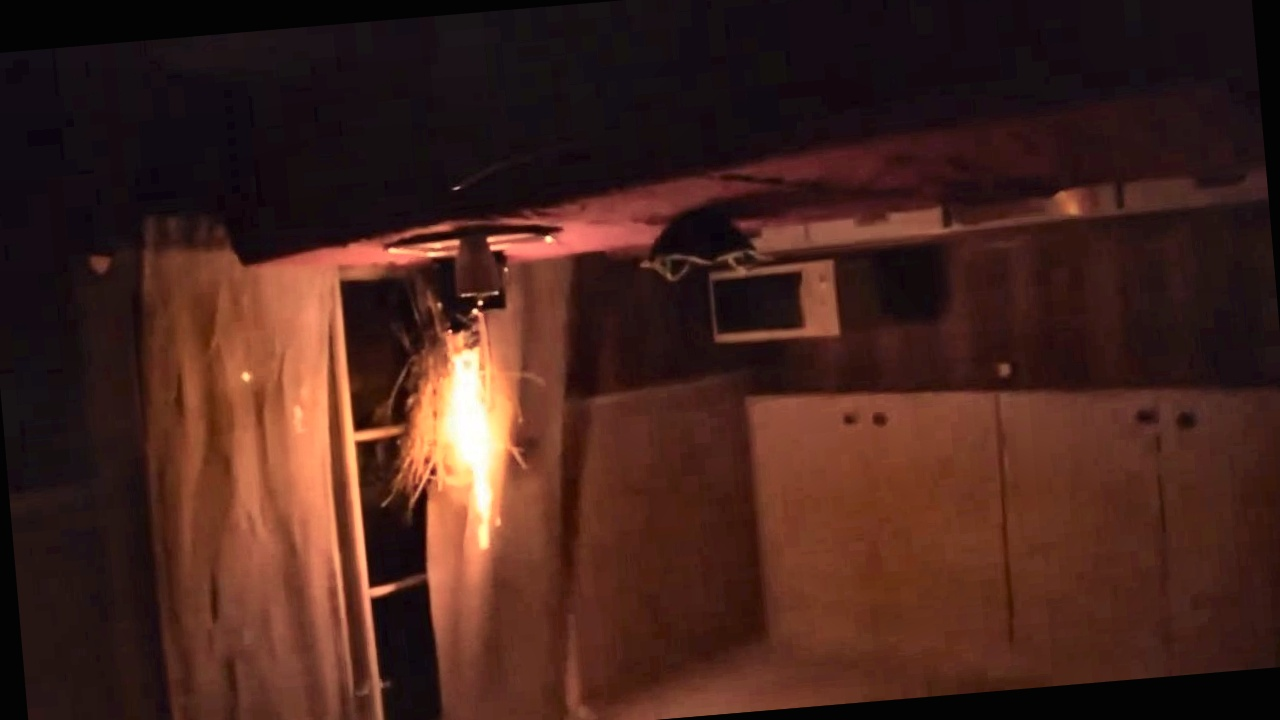fire: (363, 294, 577, 598)
